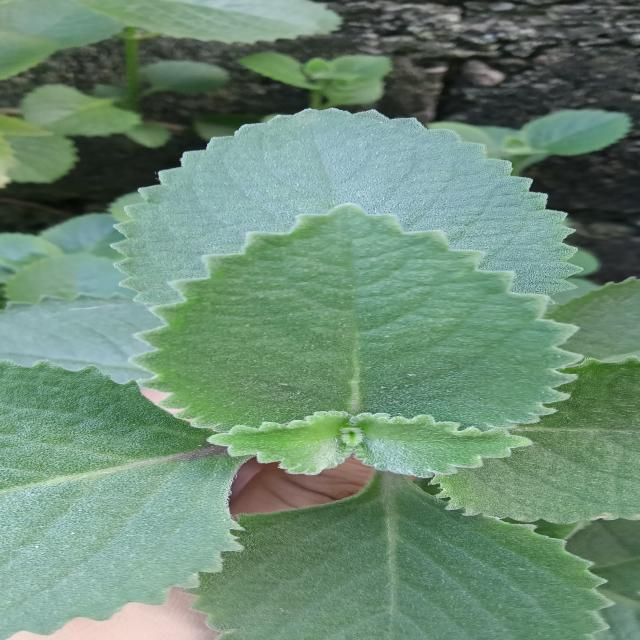Oregano: (121, 187, 616, 538)
